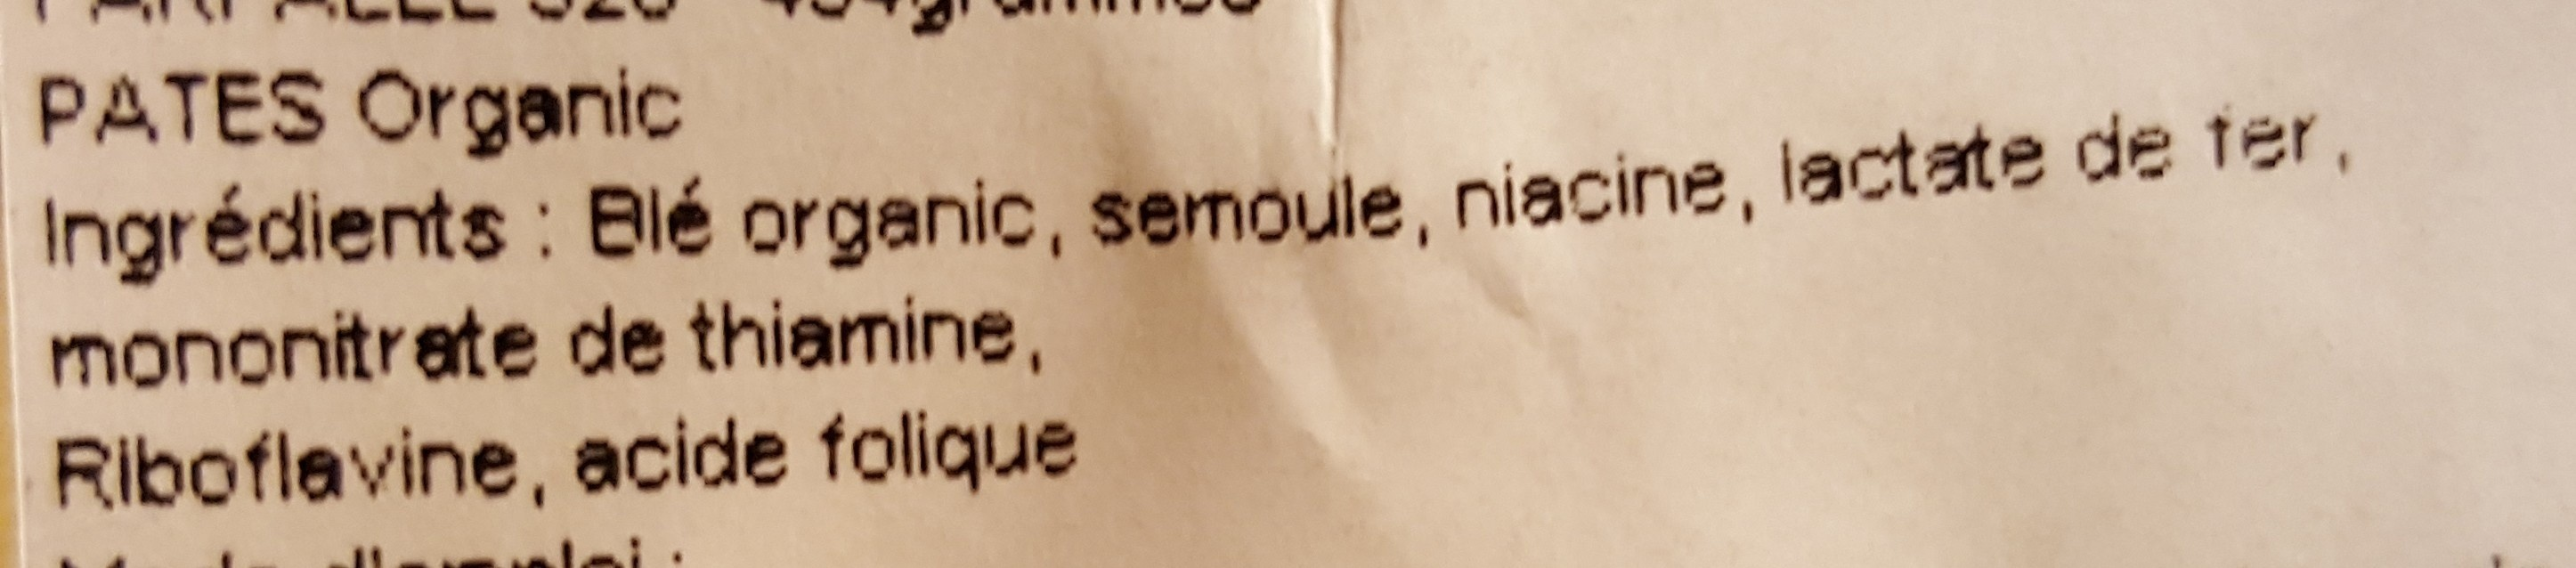ingredients: (15, 98, 2448, 520)
